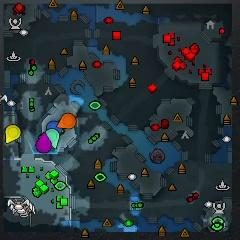p1: (47, 121, 62, 132)
p2: (45, 129, 59, 150)
p3: (36, 132, 51, 153)
p4: (5, 124, 20, 144)
p5: (57, 114, 76, 129)
